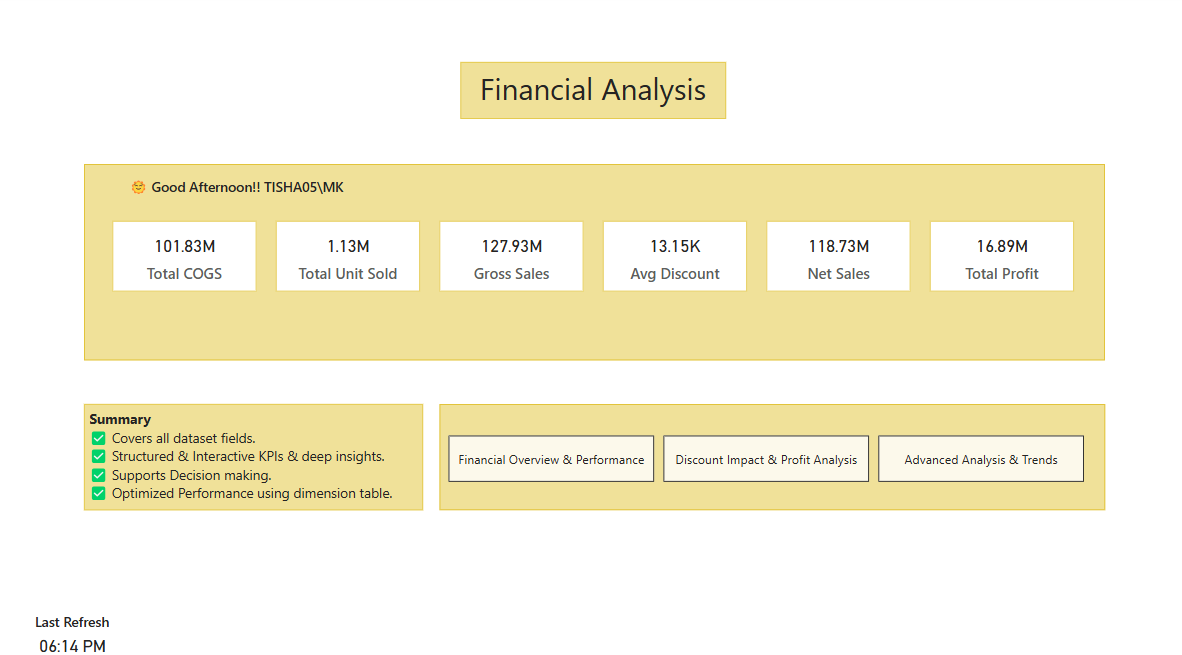

Layout of this report page (visuals, bound fields, positions):
{"tool":"powerbi","page":{"name":"Home- Financial Analysis","canvas":[1280,720],"ordinal":0},"visuals":[{"type":"shape","box":[90.7,183.8,1102.7,212.1],"z":0},{"type":"card","fields":{"Values":["Greetings.Greeting"]},"box":[90.7,184.6,328.7,53.4],"z":1000},{"type":"textbox","box":[497.1,74.5,286.6,61.5],"z":2000},{"type":"card","title":"Last Refresh","fields":{"Values":["LocalTime.LocalTime"]},"box":[0,668.7,155.4,52],"z":3000},{"type":"card","fields":{"Values":["Measure.Total Sales"]},"box":[826.8,246,155.4,76.1],"z":4000},{"type":"card","fields":{"Values":["Measure.Total Gross Sales"]},"box":[473.8,246,155.4,76.1],"z":5000},{"type":"card","fields":{"Values":["Measure.Total Profit"]},"box":[1003.3,246,155.4,76.1],"z":6000},{"type":"card","fields":{"Values":["Measure.Total Unit Sold"]},"box":[297.3,246,155.4,76.1],"z":7000},{"type":"card","fields":{"Values":["Measure.Avg Discount"]},"box":[650.3,246,155.4,76.1],"z":8000},{"type":"card","fields":{"Values":["Measure.Total COGS"]},"box":[120.8,246,155.4,76.1],"z":9000},{"type":"textbox","box":[90.7,443.7,365.9,115],"z":10000},{"type":"shape","box":[474.4,443.7,718.9,115],"z":11000},{"type":"pageNavigator","box":[484.1,477.7,686.6,50.2],"z":12000}]}

Visuals, with their boxes in screenshot pixels (x1, y1, x2, y2), scaled from the page's 1280x720 canvas onto the 1182x655 screenshot:
shape: <region>84, 167, 1102, 360</region>
card - Greetings.Greeting: <region>84, 168, 387, 217</region>
textbox: <region>459, 68, 724, 124</region>
"Last Refresh" card: <region>0, 608, 144, 654</region>
card - Measure.Total Sales: <region>763, 224, 907, 293</region>
card - Measure.Total Gross Sales: <region>438, 224, 581, 293</region>
card - Measure.Total Profit: <region>926, 224, 1070, 293</region>
card - Measure.Total Unit Sold: <region>275, 224, 418, 293</region>
card - Measure.Avg Discount: <region>601, 224, 744, 293</region>
card - Measure.Total COGS: <region>112, 224, 255, 293</region>
textbox: <region>84, 404, 422, 508</region>
shape: <region>438, 404, 1102, 508</region>
pageNavigator: <region>447, 435, 1081, 480</region>
